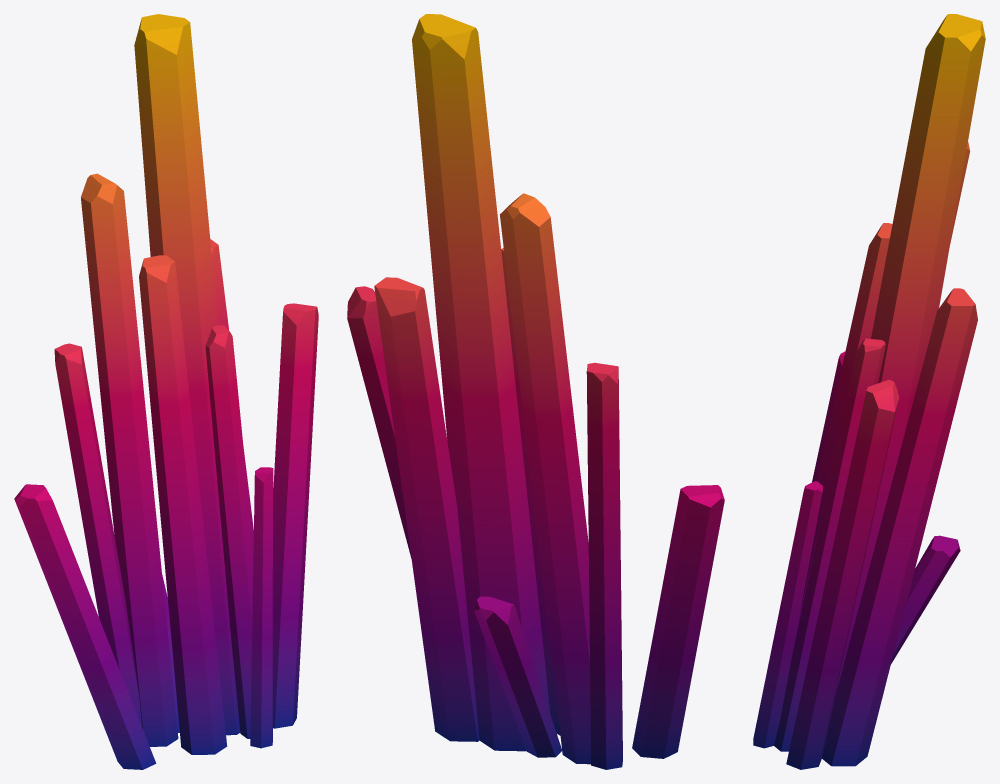
Rendered from cristales14.fbx.
The picture shows the model from 3 angles, left to right: view 1: azimuth 30°, elevation 25°; view 2: azimuth 150°, elevation 25°; view 3: azimuth 270°, elevation 25°; orthographic projection. The views are drawn at different scales.
Parts seen in each view (by area): view 1: cristal05; view 2: cristal05; view 3: cristal05.
Part boxes in pixels (x1,y1,x2,y2): cristal05: (14,14,318,769); cristal05: (347,14,724,769); cristal05: (753,14,985,769).
Bounding box in the file's own units: 893 × 1796 × 532.
Materials: 1 (1 with a texture image).
